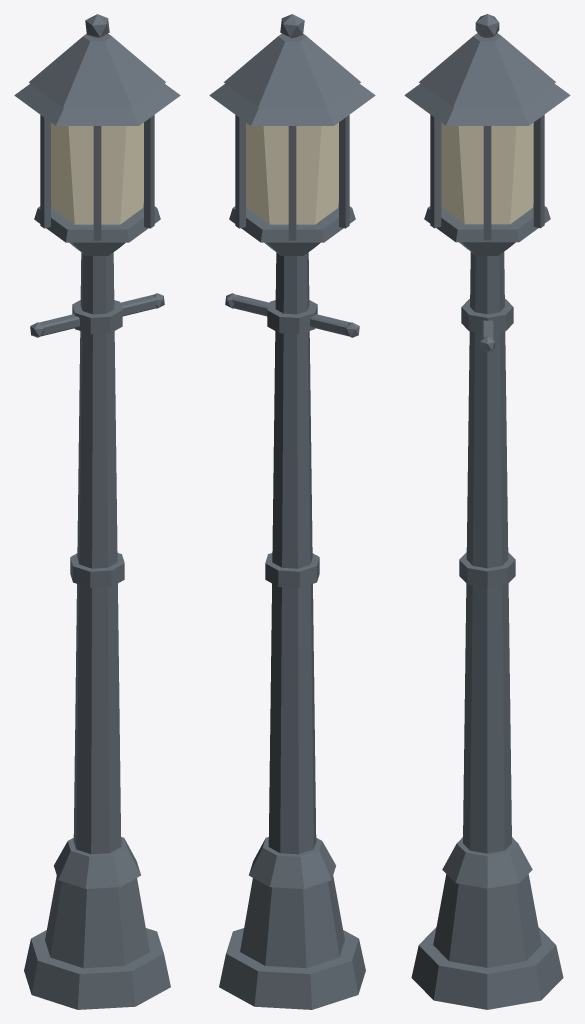
Rendered from Park_LampPost.fbx.
The picture shows the model from 3 angles, left to right: view 1: azimuth 30°, elevation 25°; view 2: azimuth 150°, elevation 25°; view 3: azimuth 270°, elevation 25°; orthographic projection.
Visible parts, largest first — view 1: Park_LampPost; view 2: Park_LampPost; view 3: Park_LampPost.
Part boxes in pixels (box(x1,y1,x2,y2)): Park_LampPost: box(14, 14, 180, 1009); Park_LampPost: box(209, 14, 375, 1009); Park_LampPost: box(404, 14, 570, 1009).
Bounding box in the file's own units: 0.4229 × 2.94 × 0.46.
